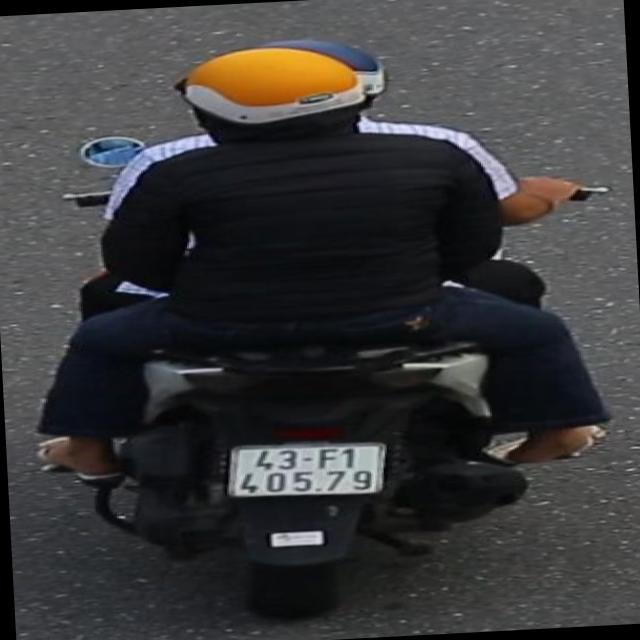LP: (218, 435, 396, 508)
helmet: (169, 34, 399, 154)
